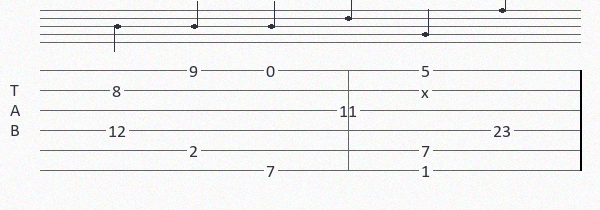0: (266, 63, 279, 78)
1: (421, 163, 434, 178)
11: (339, 103, 361, 118)
12: (108, 123, 130, 138)
2: (189, 143, 202, 158)
23: (493, 123, 515, 138)
5: (421, 63, 434, 78)
7: (266, 163, 279, 178), (421, 143, 434, 158)
8: (112, 83, 125, 98)
9: (189, 63, 202, 78)
x: (421, 84, 433, 96)
